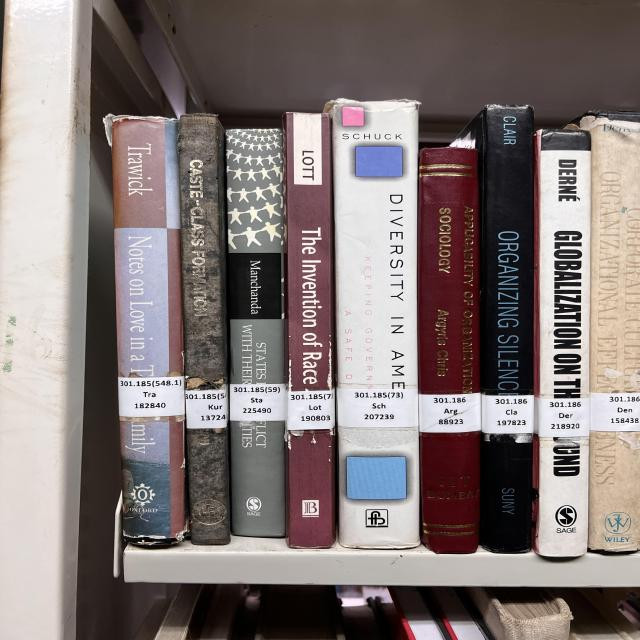Book: (325, 99, 420, 549), (453, 105, 533, 552), (107, 116, 188, 545), (533, 130, 592, 558), (418, 148, 480, 554), (178, 114, 230, 545), (285, 114, 335, 548), (580, 116, 640, 392)
Label: (337, 388, 418, 428), (118, 376, 185, 418), (418, 392, 482, 432), (535, 398, 590, 438), (482, 394, 535, 434), (230, 384, 287, 421), (287, 390, 335, 430), (185, 389, 228, 429)
